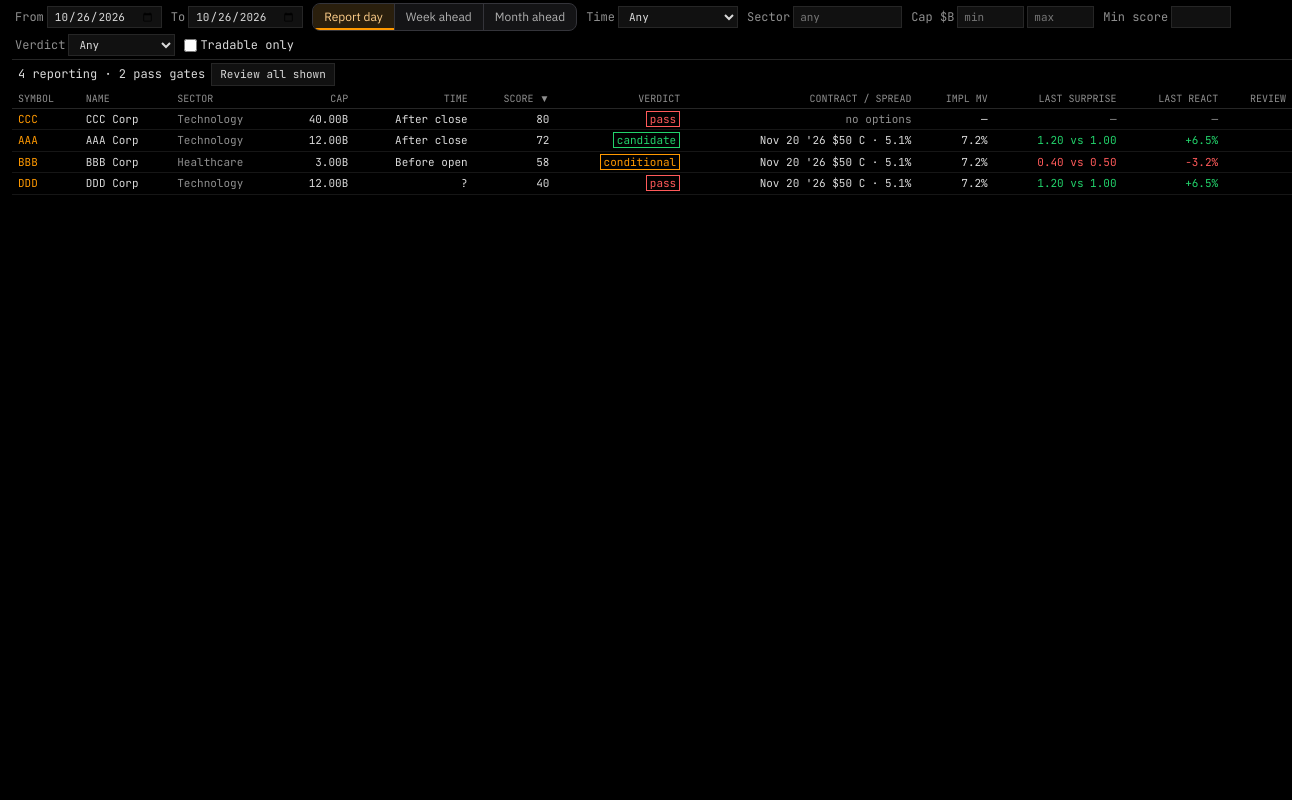
Scenario: EarningsTab › reviews one symbol and shows it queued
The width and height of the screenshot is (1292, 800).
expect the button "AAA" is shown: met, box [18, 132, 38, 148]
Click the row with test id "row-AAA" at coordinates (652, 140), box [12, 130, 1291, 151]
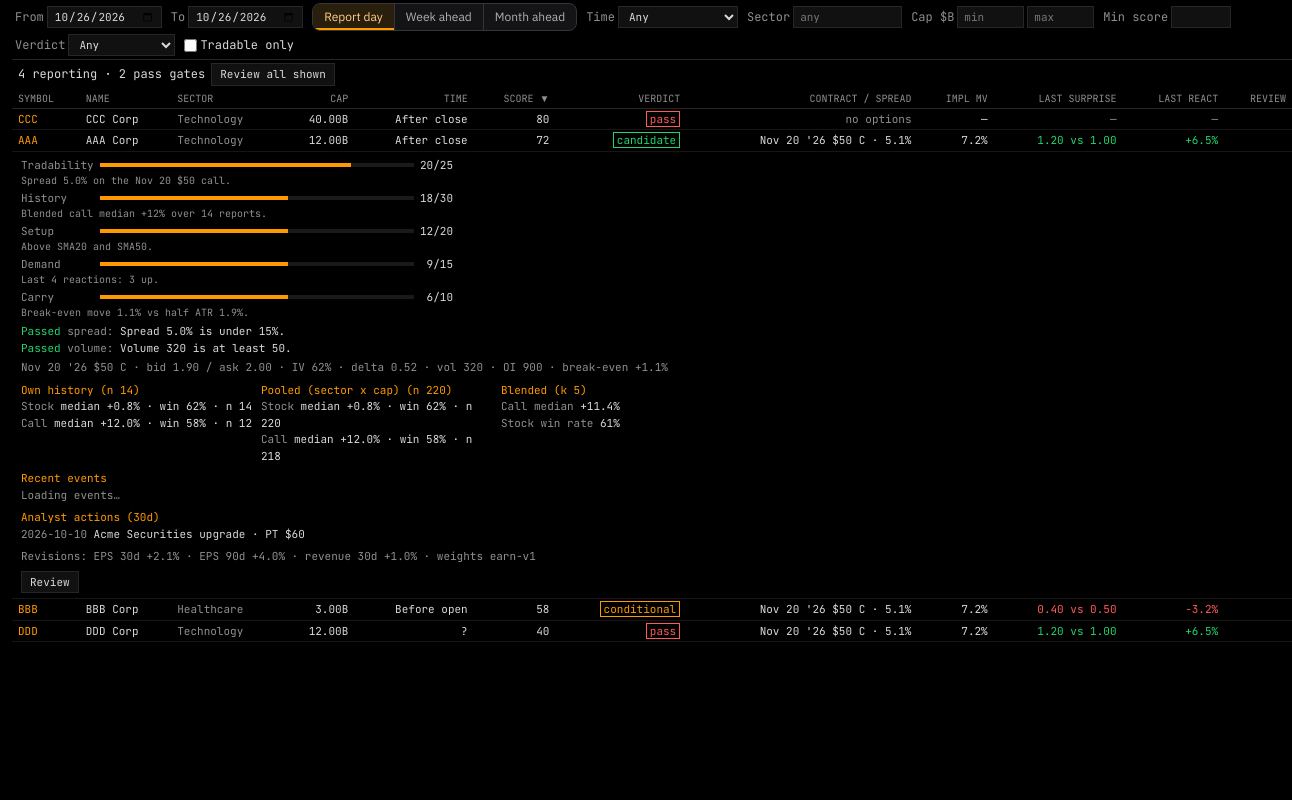
Click the button "Review" at coordinates (50, 582), box [21, 570, 79, 593]
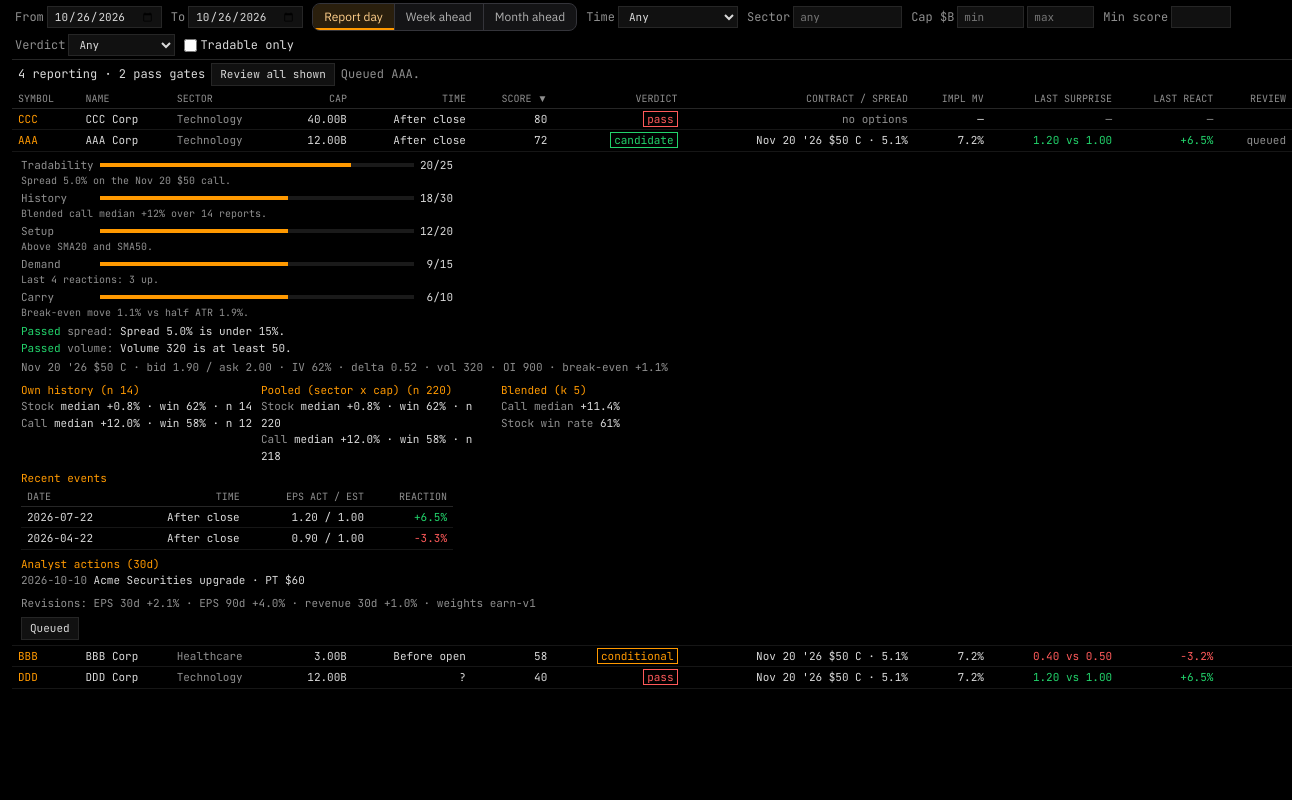
expect the text "Queued AAA." is shown: met, box [341, 65, 420, 83]
expect the button "Queued" is shown: met, box [21, 617, 79, 640]
expect the text "queued" is shown: met, box [1219, 130, 1291, 151]
